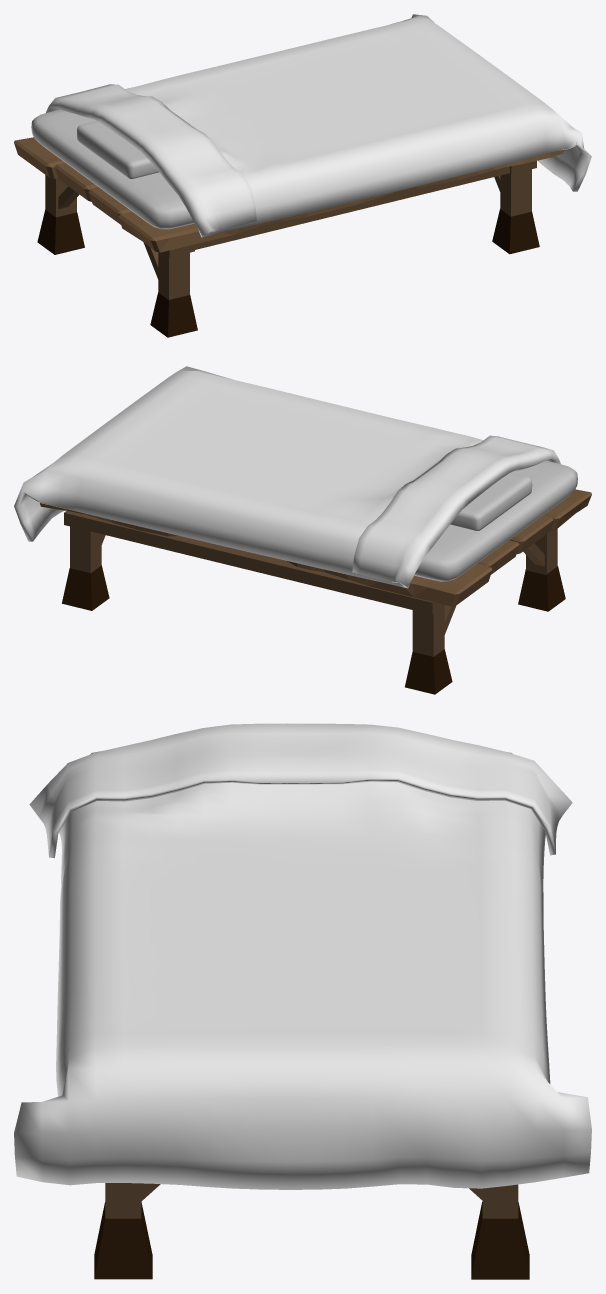
The model's file is Bed.fbx.
3 views of the same model, one above another, from view 1: azimuth 30°, elevation 25°; view 2: azimuth 150°, elevation 25°; view 3: azimuth 270°, elevation 25° (orthographic). The views are drawn at different scales.
Parts seen in each view (by area): view 1: Plane, Cube.057, plank3.101, Cube.058, Cube.055, Cube.054, Cube.047, Cube.048, Cube.053, Cube.052, plank3.099, Cube.050 (+2 smaller); view 2: Plane, Cube.057, Cube.056, plank3.099, Cube.058, Cube.049, Cube.047, Cube.054, Cube.050, Cube.051, plank3.101, Cube.053 (+3 smaller); view 3: Plane, Cube.048, Cube.049, Cube.052, Cube.051.
Boxes of the visible parts, box(x1,y1,x2,y2) form: Plane: box(46, 14, 591, 237); Cube.057: box(31, 109, 194, 229); plank3.101: box(118, 150, 564, 252); Cube.058: box(77, 121, 158, 178); Cube.055: box(195, 166, 509, 249); Cube.054: box(150, 292, 197, 337); Cube.047: box(37, 209, 84, 254); Cube.048: box(492, 209, 539, 254); Cube.053: box(158, 252, 189, 299); Cube.052: box(500, 169, 531, 216); plank3.099: box(14, 137, 65, 178); Cube.050: box(45, 175, 76, 217); Plane: box(14, 366, 560, 588); Cube.057: box(414, 460, 577, 581); Cube.056: box(89, 517, 406, 608); plank3.099: box(40, 503, 492, 606); Cube.058: box(450, 472, 532, 530); Cube.049: box(62, 565, 109, 610); Cube.047: box(405, 649, 452, 694); Cube.054: box(518, 566, 565, 611); Cube.050: box(412, 606, 444, 656); Cube.051: box(70, 526, 101, 573); plank3.101: box(543, 489, 591, 531); Cube.053: box(526, 529, 557, 575); Plane: box(14, 723, 591, 1189); Cube.048: box(94, 1202, 152, 1279); Cube.049: box(471, 1201, 529, 1279); Cube.052: box(105, 1183, 141, 1218); Cube.051: box(482, 1184, 518, 1218).
Bounding box in the file's own units: 368 × 133 × 258.
